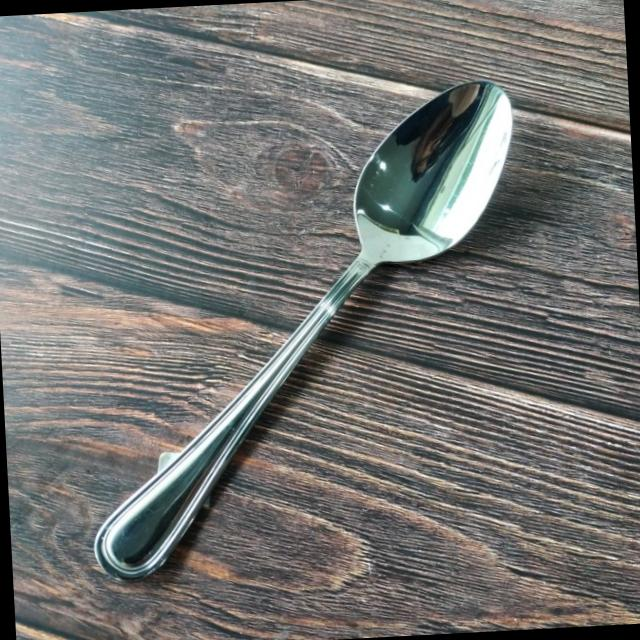spoon: (60, 74, 551, 607)
